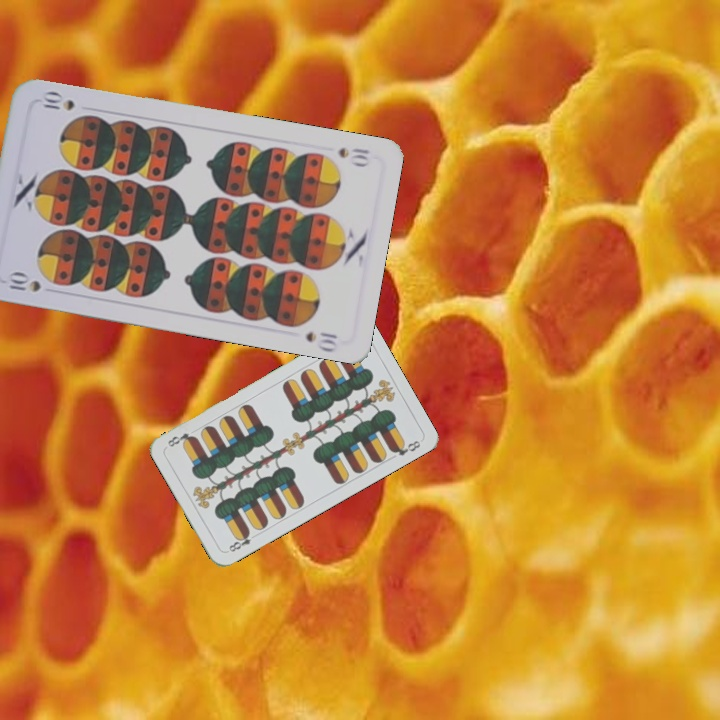E8: (223, 527, 260, 555)
S10: (3, 268, 43, 294), (333, 143, 373, 169)
